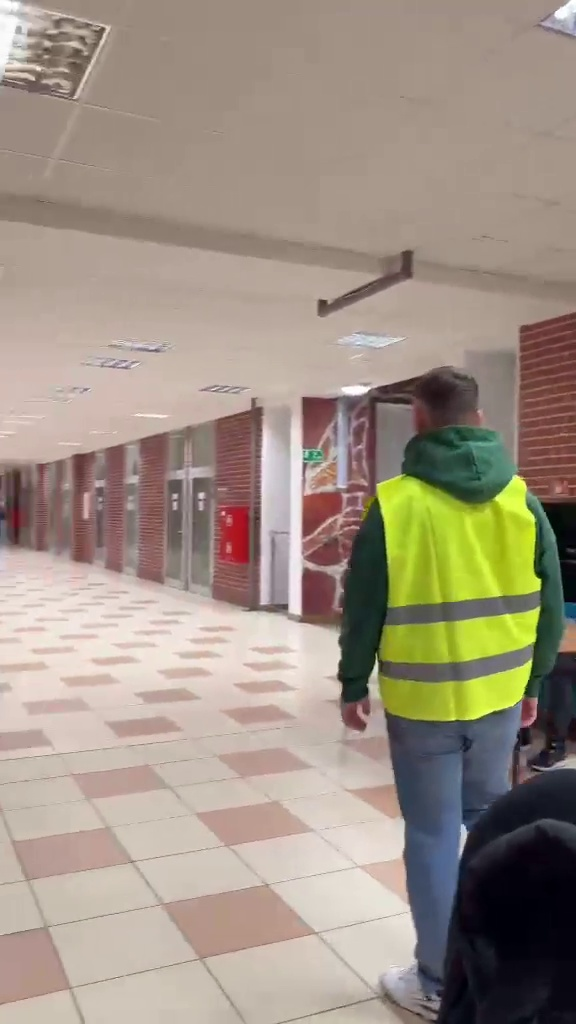vest: (340, 358, 563, 992)
